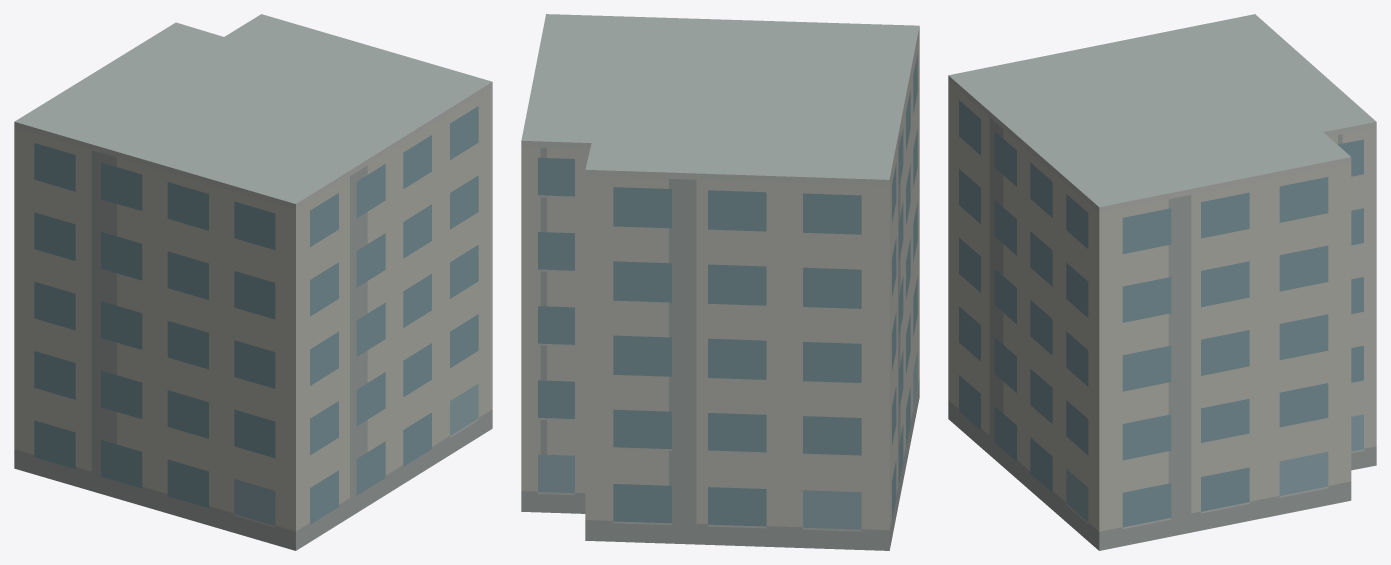
File: survey-upis-32747459.glb
The picture shows the model from 3 angles, left to right: view 1: azimuth 30°, elevation 25°; view 2: azimuth 150°, elevation 25°; view 3: azimuth 270°, elevation 25°; orthographic projection. The views are drawn at different scales.
Visible parts, largest first — view 1: survey-upis-32747459.tmp; view 2: survey-upis-32747459.tmp; view 3: survey-upis-32747459.tmp.
Boxes of the visible parts, x1,y1,x2,y2 form: survey-upis-32747459.tmp: [14, 14, 492, 550]; survey-upis-32747459.tmp: [521, 14, 919, 550]; survey-upis-32747459.tmp: [948, 14, 1376, 550].
Bounding box in the file's own units: 17.44 × 14.45 × 16.34.
